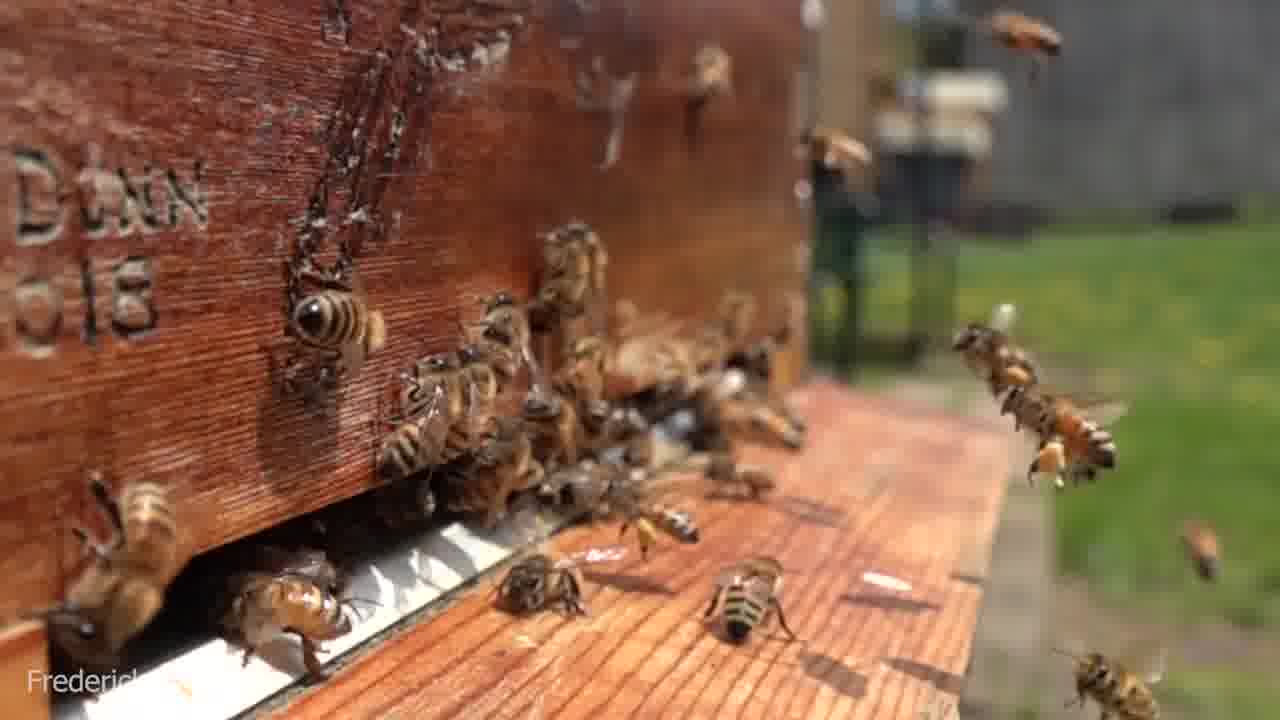pollen: (1004, 378, 1121, 489), (952, 316, 1049, 389)
